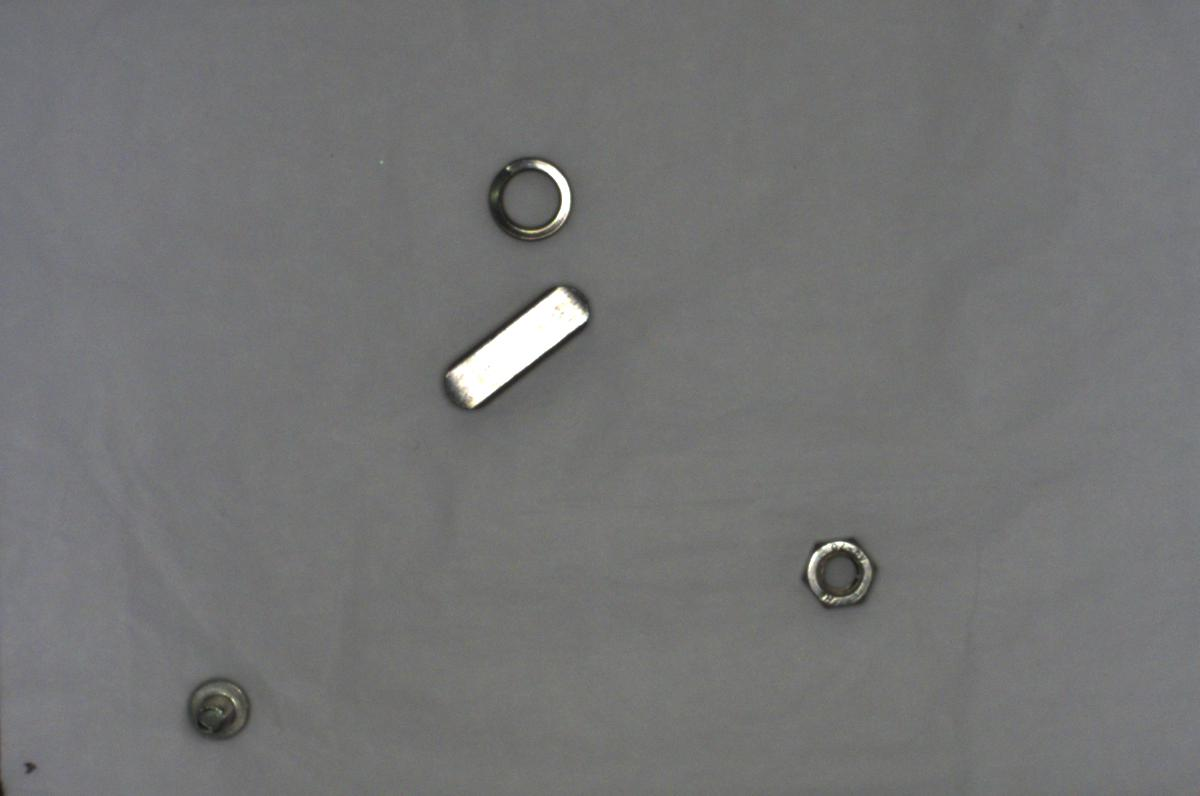Hexagon nut: (791, 525, 884, 615)
Keybar: (427, 269, 601, 421)
Round head screw: (180, 666, 258, 745)
Spring washer: (484, 142, 578, 246)
